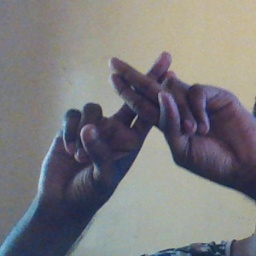F: (85, 44, 204, 165)
